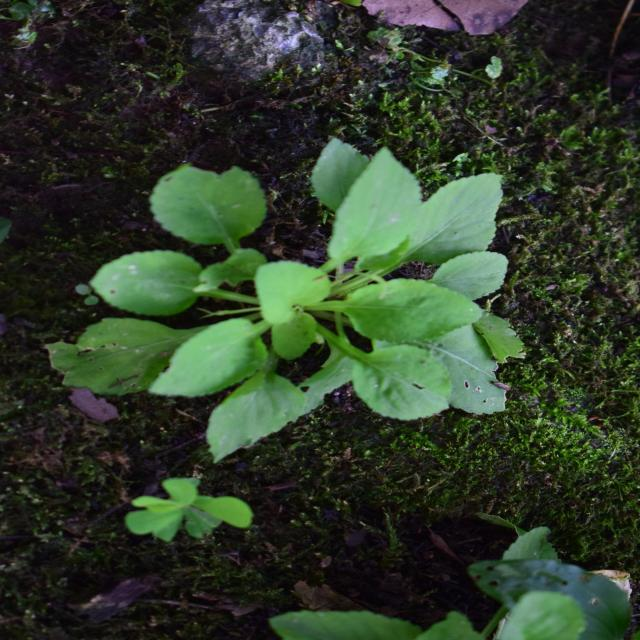Viola: (153, 96, 426, 563)
